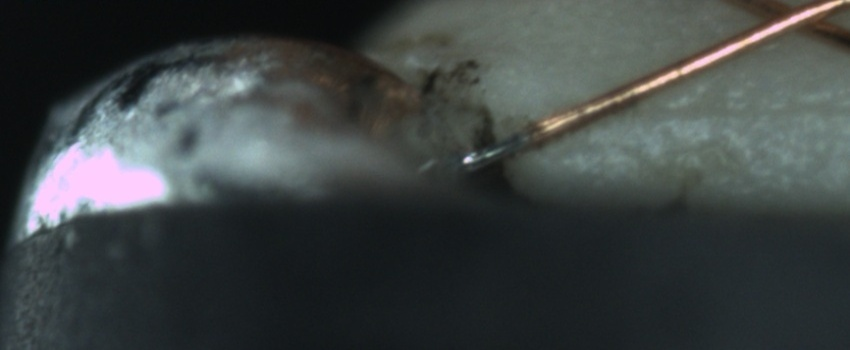CL: (734, 1, 844, 44)
DL: (613, 75, 844, 146)
TS: (454, 126, 535, 172)
